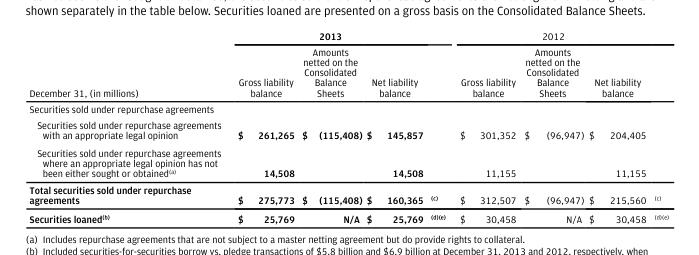table: (28, 29, 668, 224)
table column: (28, 29, 228, 224), (228, 29, 297, 224), (452, 29, 519, 224), (297, 29, 363, 224), (519, 29, 585, 224), (585, 29, 649, 224), (363, 29, 426, 224), (426, 29, 452, 224), (649, 29, 668, 224)
table column header: (28, 29, 668, 100)
table projected row header: (28, 100, 668, 116)
table row: (28, 43, 668, 100), (28, 143, 668, 180), (28, 180, 668, 208), (28, 116, 668, 143), (28, 100, 668, 116), (28, 208, 668, 224), (28, 29, 668, 43)
table spanning cell: (28, 29, 228, 100), (228, 29, 426, 43), (452, 29, 649, 43)
